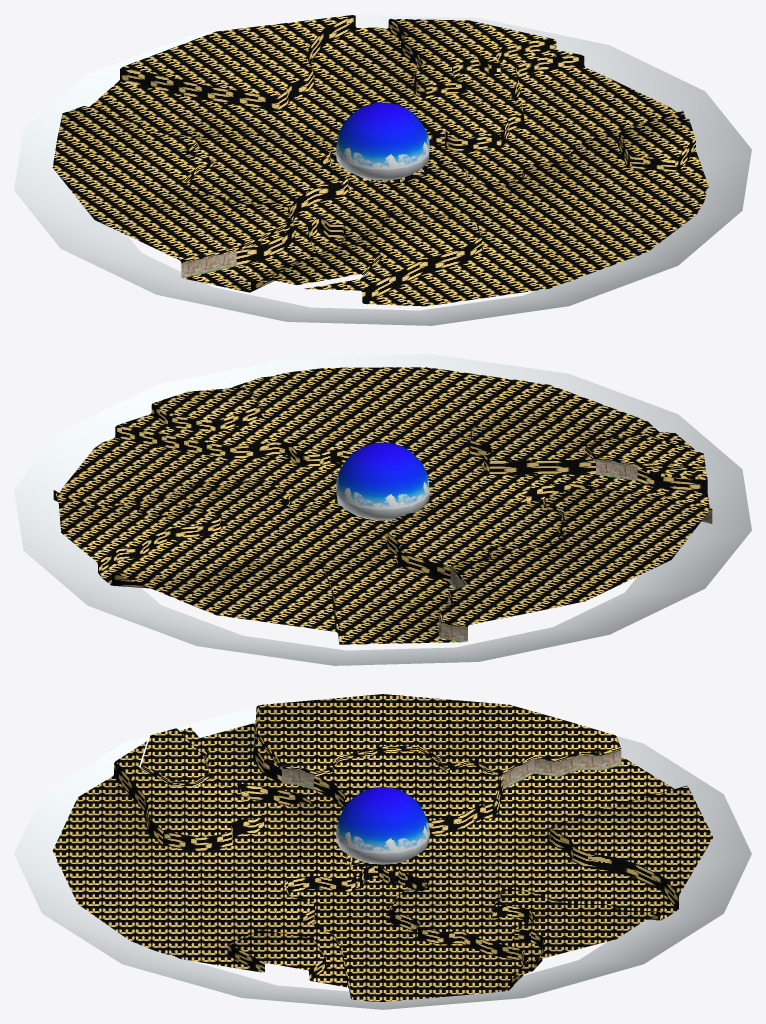
Rendered from jungle1.fbx.
3 views of the same model, one above another, from view 1: azimuth 30°, elevation 25°; view 2: azimuth 150°, elevation 25°; view 3: azimuth 270°, elevation 25° (orthographic).
Visible parts, largest first — view 1: JUN_GROUND_NOCOLI; view 2: JUN_GROUND_NOCOLI; view 3: JUN_GROUND_NOCOLI.
Part boxes in pixels (x1,y1,x2,y2): JUN_GROUND_NOCOLI: [14, 14, 751, 325]; JUN_GROUND_NOCOLI: [14, 354, 751, 665]; JUN_GROUND_NOCOLI: [14, 694, 751, 1009].
Bounding box in the file's own units: 274620 × 35330 × 274620.
